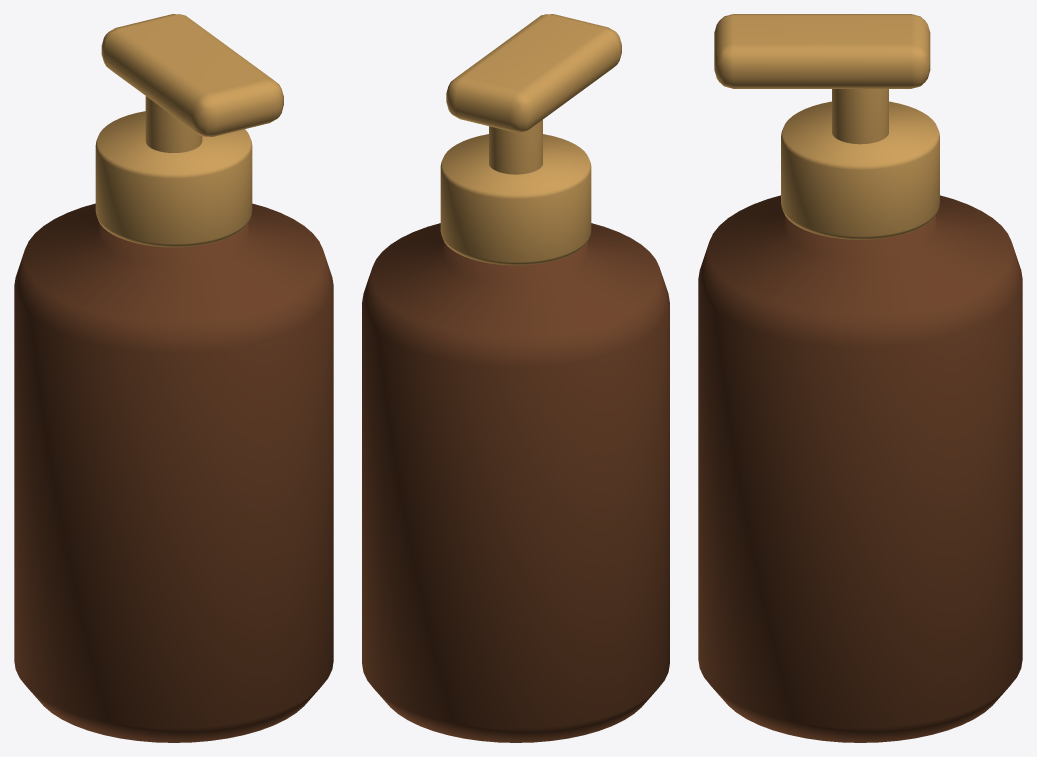
File: accessory.glb
3 renders of one model, left to right at view 1: azimuth 30°, elevation 25°; view 2: azimuth 150°, elevation 25°; view 3: azimuth 270°, elevation 25°, orthographic. The views are drawn at different scales.
Visible parts, largest first — view 1: Amber soap reservoir, Pump collar, Dispenser lever, Pump stem; view 2: Amber soap reservoir, Pump collar, Dispenser lever, Pump stem; view 3: Amber soap reservoir, Pump collar, Dispenser lever, Pump stem.
Part boxes in pixels (x1,y1,x2,y2): Amber soap reservoir: (14, 203, 333, 742); Pump collar: (95, 111, 252, 247); Dispenser lever: (101, 14, 283, 136); Pump stem: (145, 96, 202, 152); Amber soap reservoir: (362, 223, 669, 742); Pump collar: (440, 134, 591, 265); Dispenser lever: (446, 14, 621, 132); Pump stem: (489, 120, 542, 174); Amber soap reservoir: (698, 195, 1022, 742); Pump collar: (781, 101, 939, 239); Dispenser lever: (714, 14, 930, 88); Pump stem: (832, 89, 888, 144).
Bounding box in the file's own units: 0.102 × 0.2265 × 0.102.
